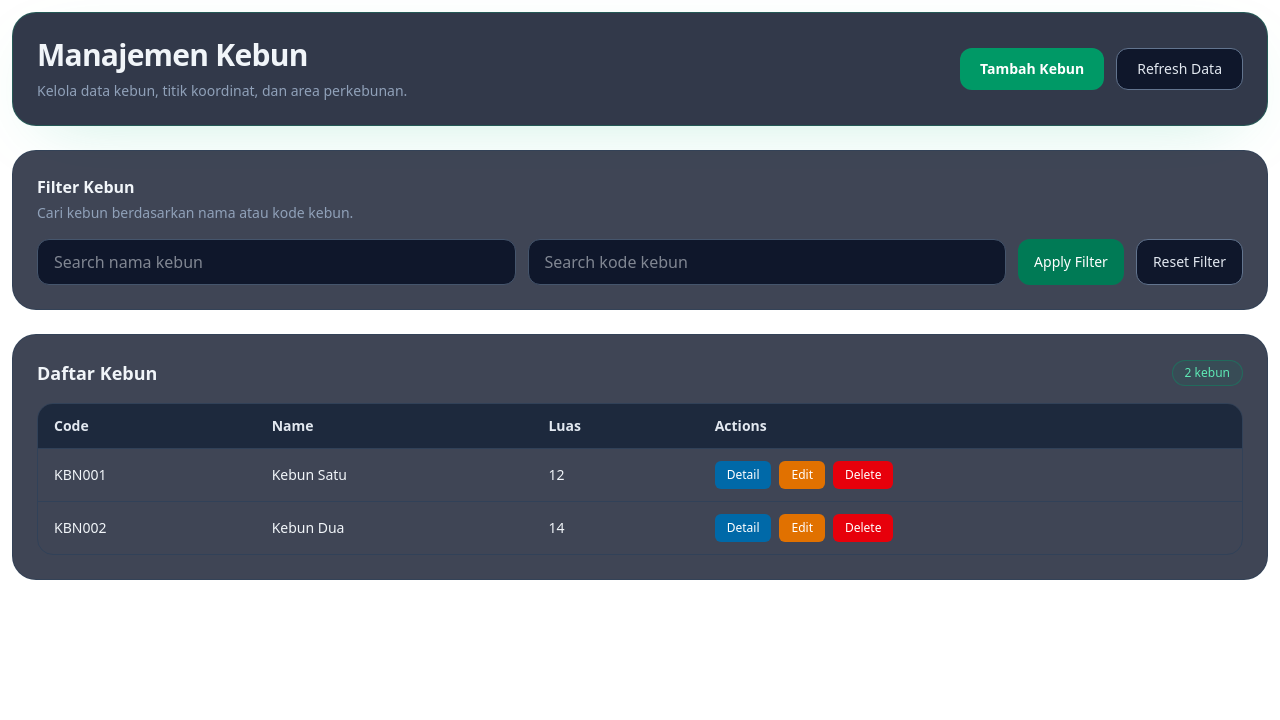
AdminKebunPage delete flow › uses custom delete modal instead of window.confirm
Expected: the text "KBN001" is shown, [38,448,256,502]
What coordinates should you click on to do the following:
click the button "Delete" in the row of "KBN001"
I would click on:
 (863, 475)
Its box is [833,461,894,489].
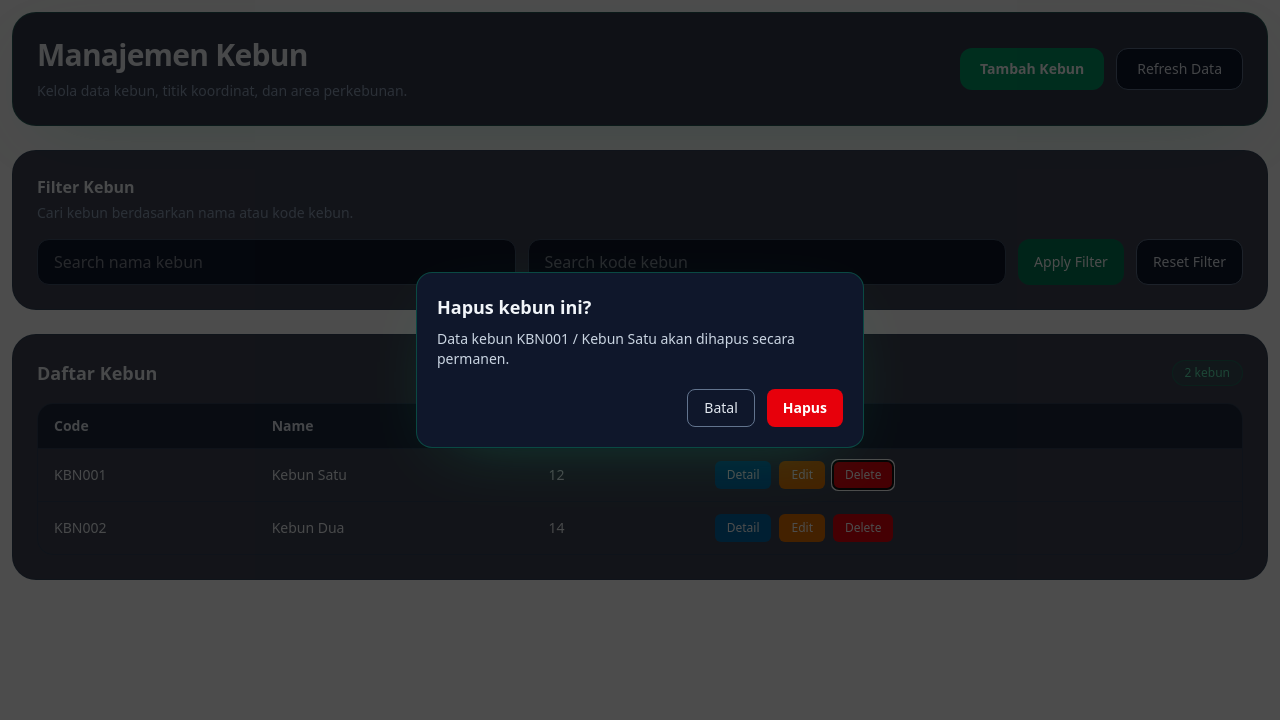
Expected: the heading "Hapus kebun ini?" is shown, [437,295,591,319]
